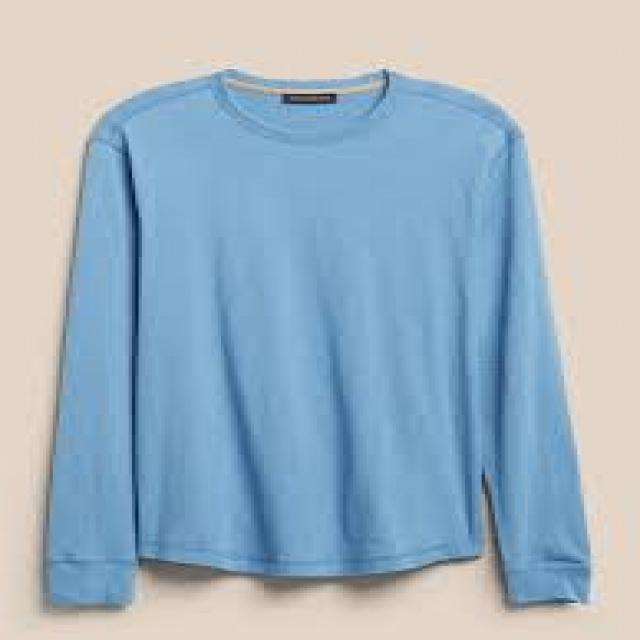plain: (26, 52, 640, 640)
